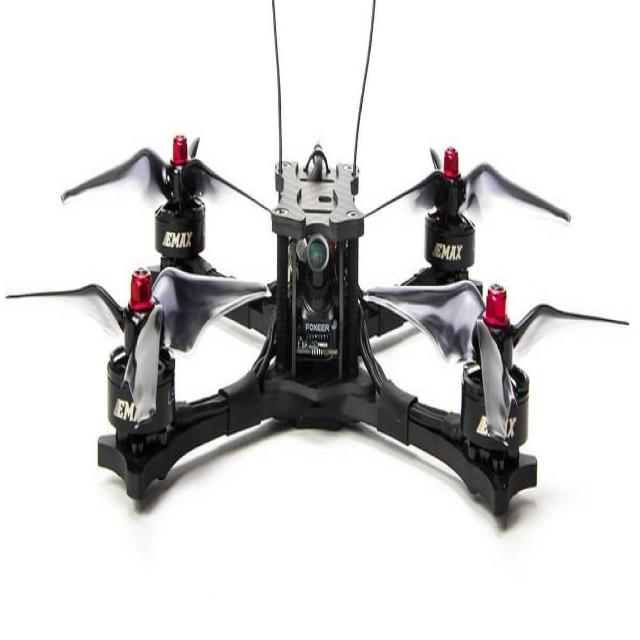drone: (6, 29, 634, 537)
